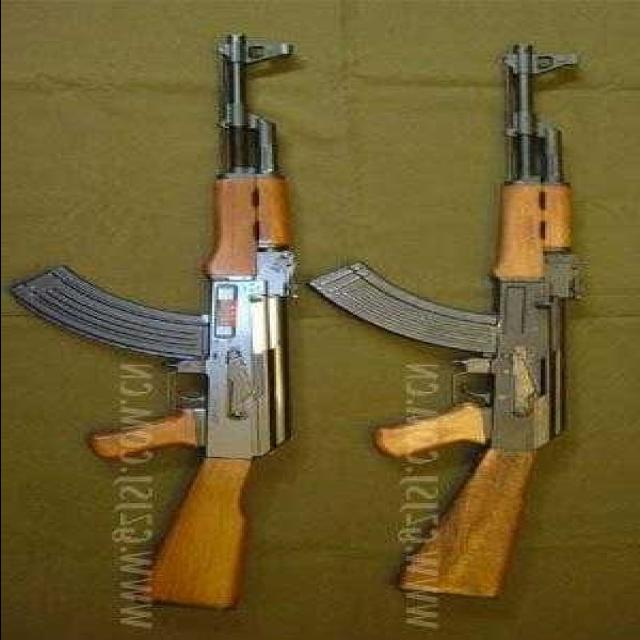heavyweapon: (311, 42, 605, 606)
